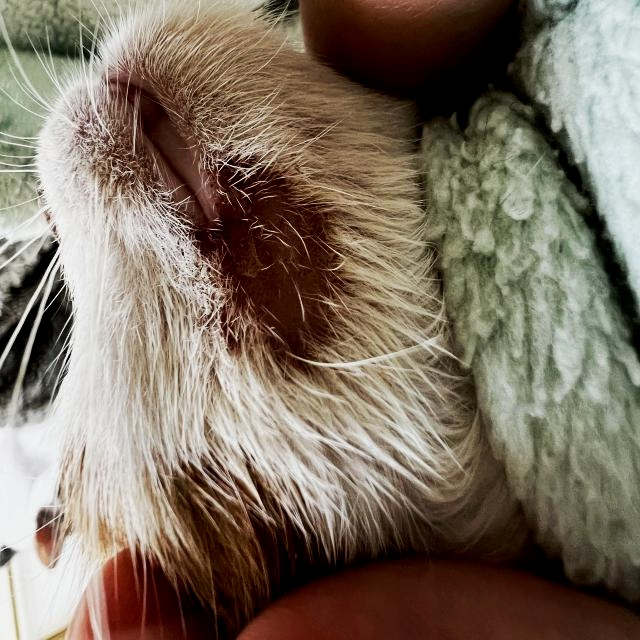ringworm: (211, 168, 329, 379)
